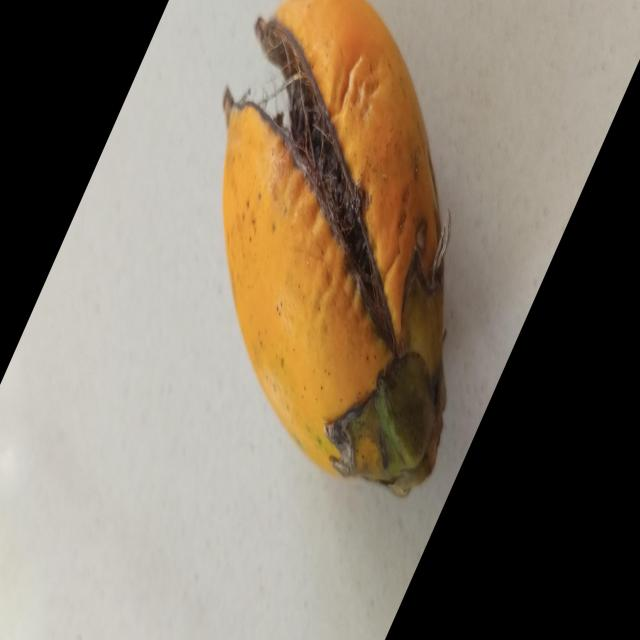damaged: (221, 0, 447, 499)
